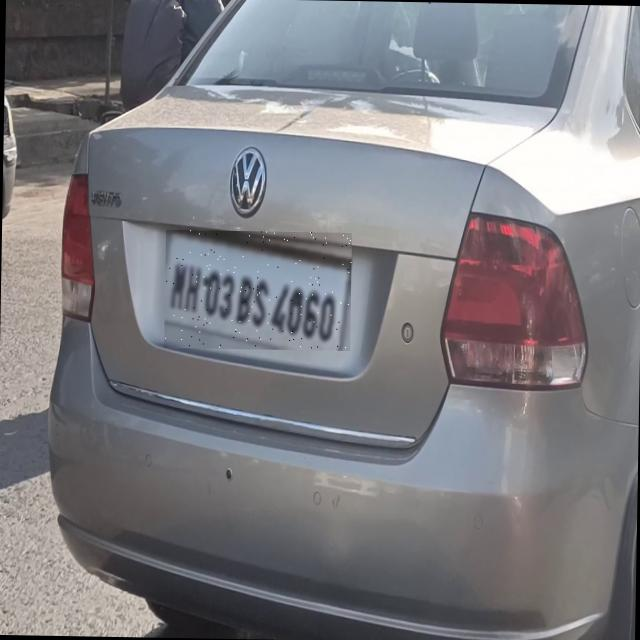Plate: (165, 231, 353, 352)
